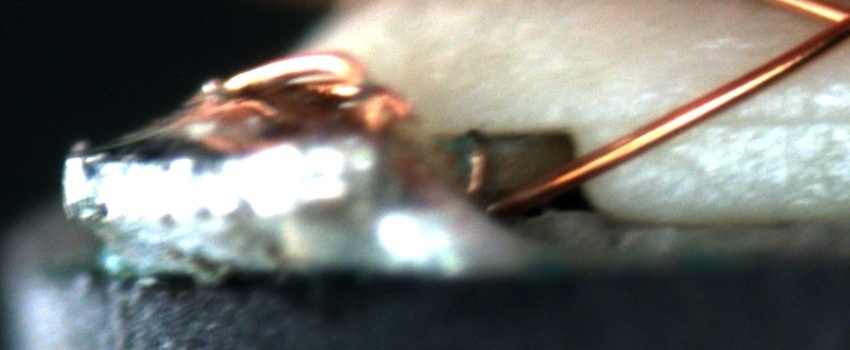DL: (698, 93, 849, 155)
TE: (176, 38, 403, 133)
